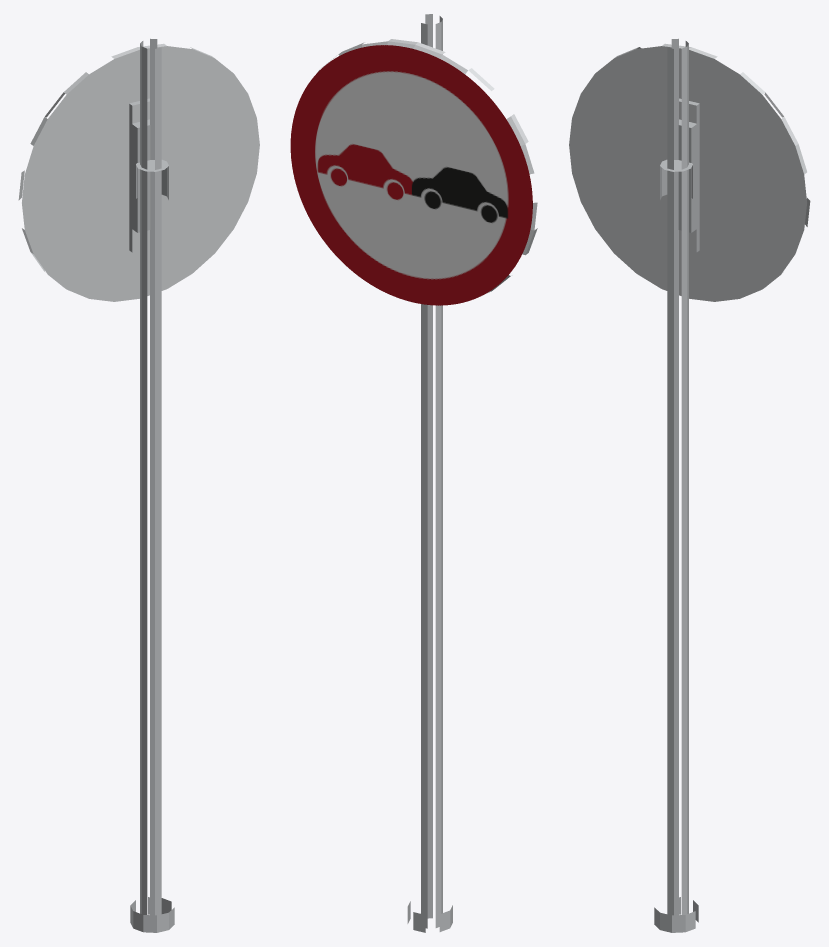
The model's file is sign_no_overtaking.glb.
3 renders of one model, left to right at view 1: azimuth 30°, elevation 25°; view 2: azimuth 150°, elevation 25°; view 3: azimuth 330°, elevation 25°, orthographic. The views are drawn at different scales.
Parts seen in each view (by area): view 1: sign_no_overtaking; view 2: sign_no_overtaking; view 3: sign_no_overtaking.
Boxes of the visible parts, x1,y1,x2,y2 form: sign_no_overtaking: (18, 38, 259, 932); sign_no_overtaking: (290, 14, 537, 932); sign_no_overtaking: (569, 38, 810, 932).
Size of the model in its own units: 0.72 by 2.52 by 0.1487.
5 materials, 1 textured.
